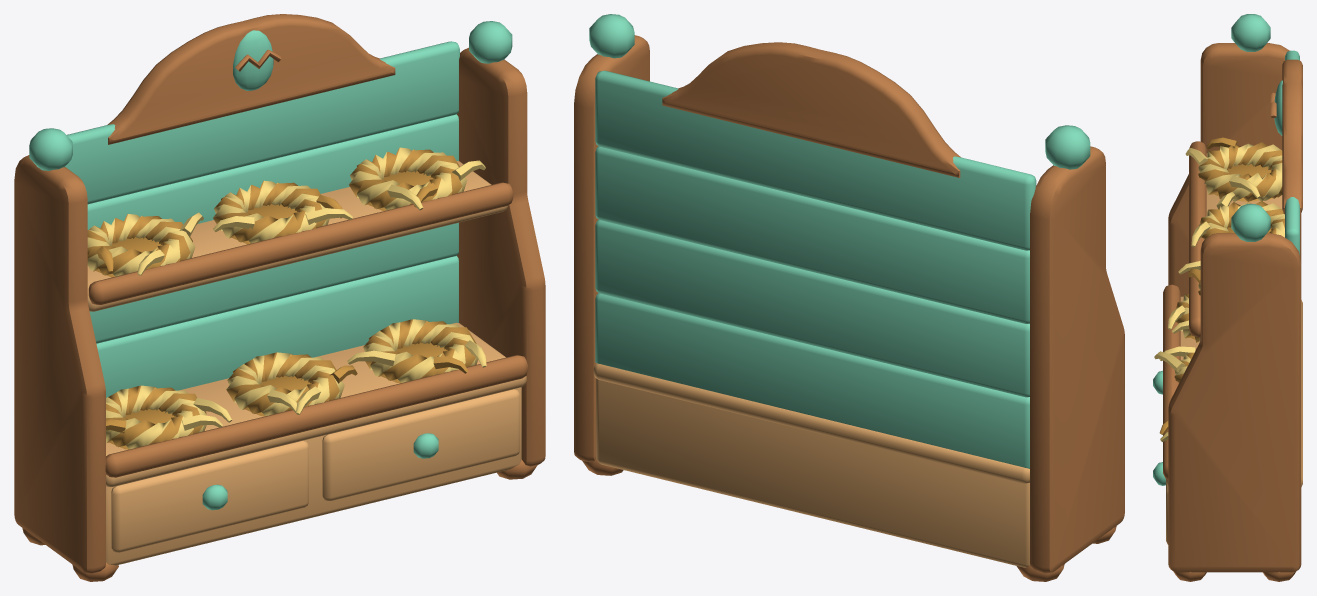
Rendered from ShopEggShelf.fbx.
3 views of the same model, side by side, from view 1: azimuth 30°, elevation 25°; view 2: azimuth 150°, elevation 25°; view 3: azimuth 270°, elevation 25° (orthographic). The views are drawn at different scales.
Parts seen in each view (by area): view 1: ShopEggShelf; view 2: ShopEggShelf; view 3: ShopEggShelf.
Boxes of the visible parts, x1,y1,x2,y2 form: ShopEggShelf: (14, 14, 545, 581); ShopEggShelf: (574, 14, 1124, 581); ShopEggShelf: (1153, 14, 1302, 581).
Bounding box in the file's own units: 1.65 × 1.53 × 0.5063.
